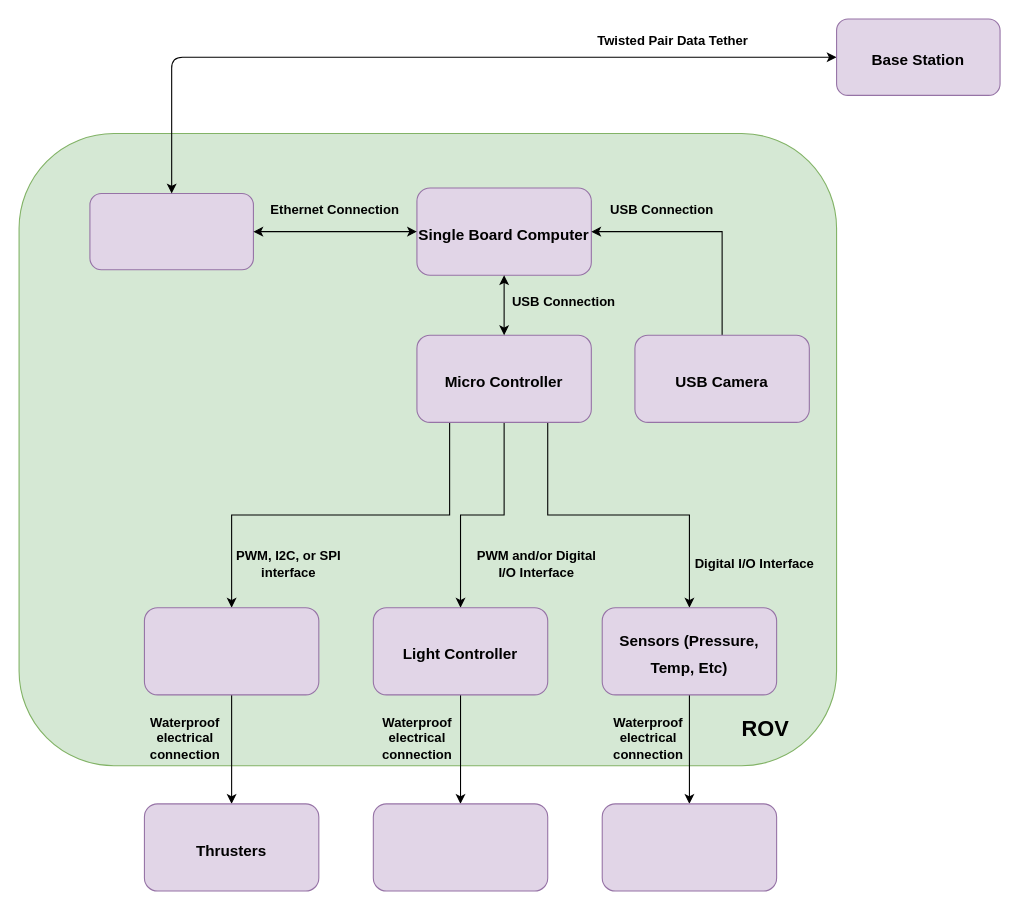
Some shapes in this 1019 by 910 pixel diagram are drawn without their labels. The centre of each missing label's shape, as x and y in pixels:
Lights: the point at 460,847
Motor Controller: the point at 231,651
Sensor Probes: the point at 689,847
Tether Interface board: the point at 171,231
